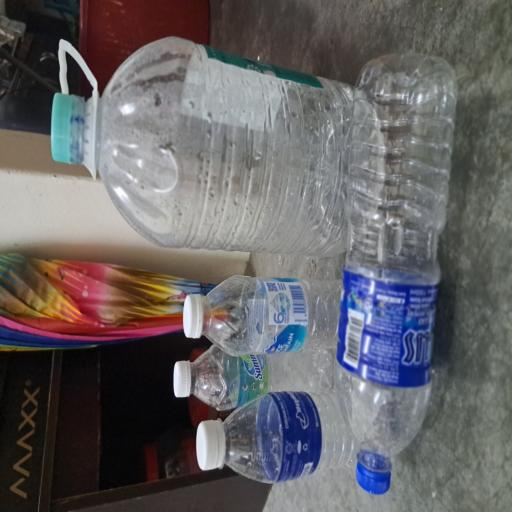plastic bottle: (196, 128, 355, 512), (36, 453, 341, 512), (24, 296, 94, 479), (118, 269, 176, 471), (75, 264, 130, 440)
plastic bottle cap: (260, 66, 314, 116), (32, 262, 72, 304), (12, 473, 42, 512), (131, 241, 161, 278), (85, 228, 114, 258)
